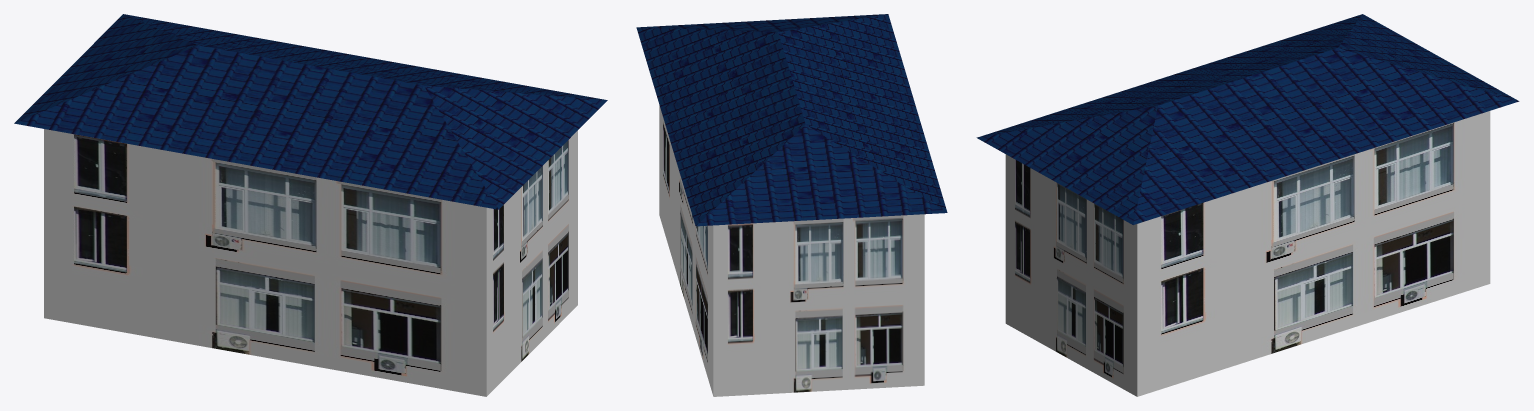
3 views of the same model, side by side, from view 1: azimuth 30°, elevation 25°; view 2: azimuth 150°, elevation 25°; view 3: azimuth 270°, elevation 25° (orthographic). The views are drawn at different scales.
Visible parts, largest first — view 1: CityEngineMaterial_9_m, CityEngineMaterial_6_m; view 2: CityEngineMaterial_6_m, CityEngineMaterial_9_m; view 3: CityEngineMaterial_9_m, CityEngineMaterial_6_m.
Boxes of the visible parts, x1,y1,x2,y2 form: CityEngineMaterial_9_m: (44,129,577,396); CityEngineMaterial_6_m: (14,14,607,209); CityEngineMaterial_6_m: (636,14,947,226); CityEngineMaterial_9_m: (659,105,924,396); CityEngineMaterial_9_m: (1005,111,1490,396); CityEngineMaterial_6_m: (976,14,1519,224).
Size of the model in its own units: 22.36 by 11.2 by 24.3.
